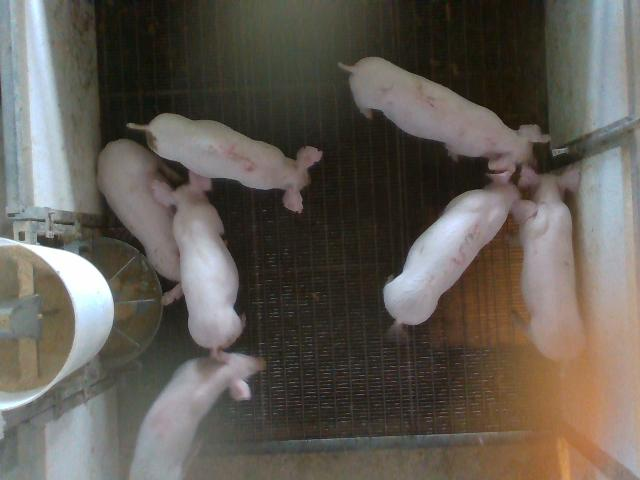pig-3: (385, 171, 535, 324)
pig-4: (129, 351, 265, 478)
pig-5: (128, 114, 322, 212)
